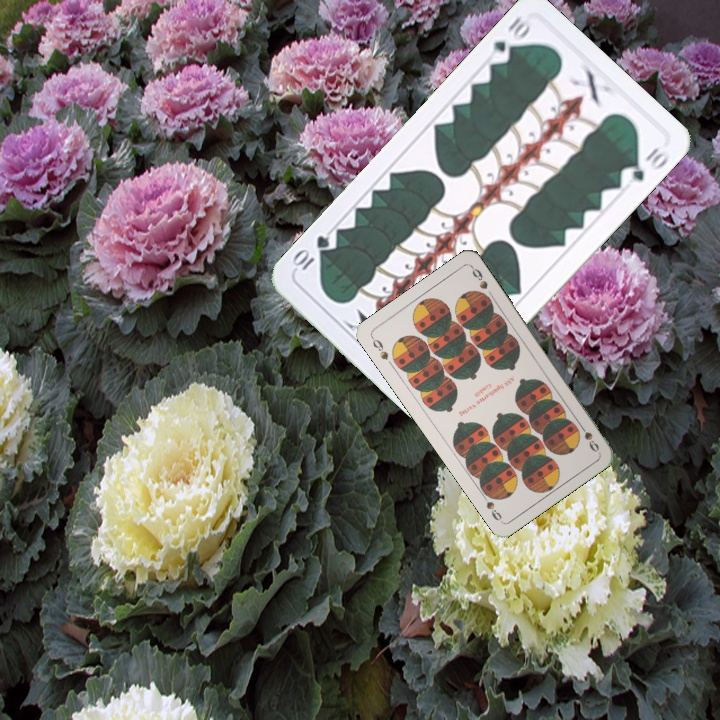G10: (484, 10, 535, 68)
S9: (574, 418, 602, 455), (367, 333, 391, 362)
